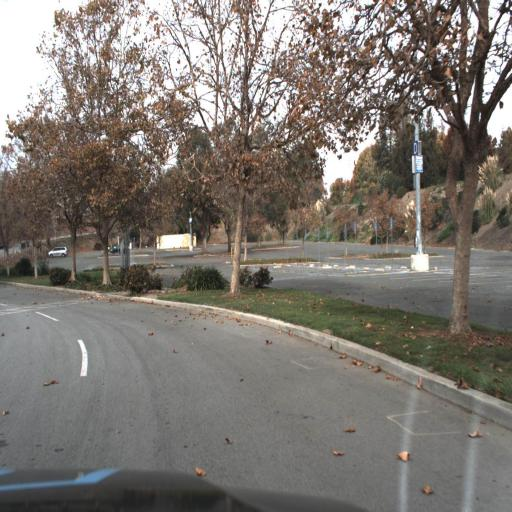car: (45, 244, 69, 259), (107, 240, 125, 255)
